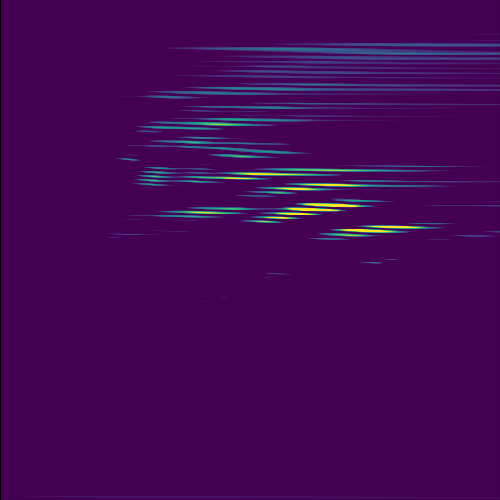semblance: (241, 191, 379, 228), (204, 161, 348, 185), (239, 176, 370, 202), (304, 219, 435, 243)
